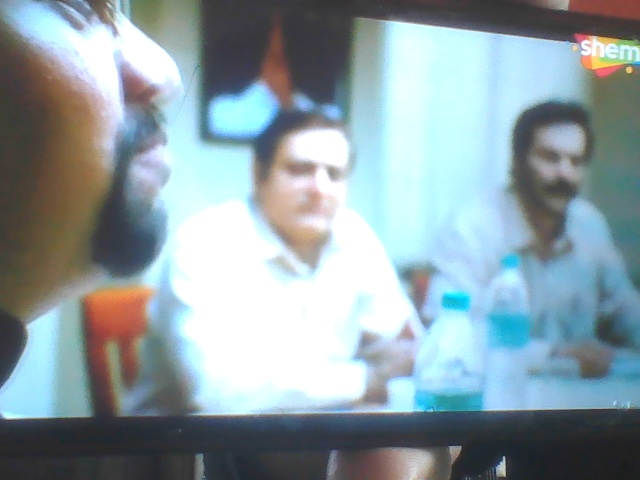fake: (250, 93, 362, 252)
